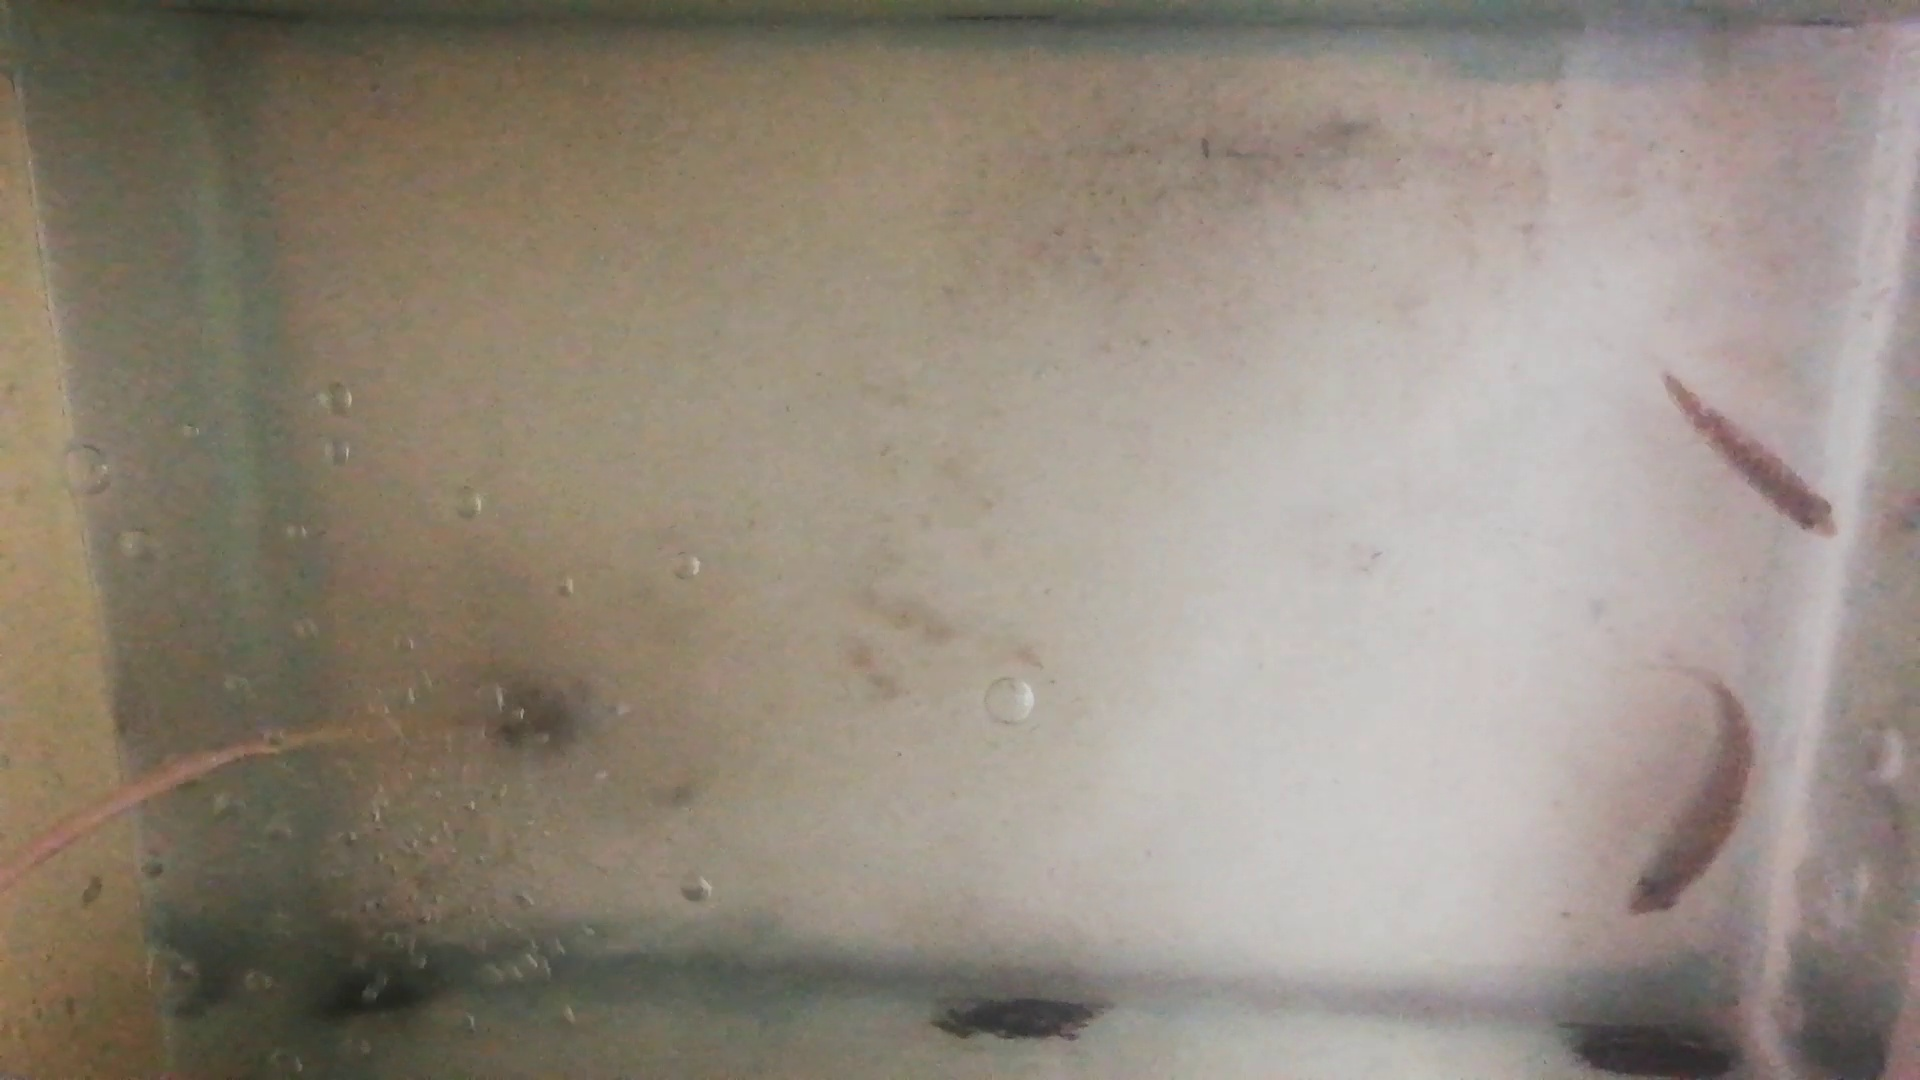fish: (1658, 365, 1840, 545), (1626, 682, 1760, 919)
